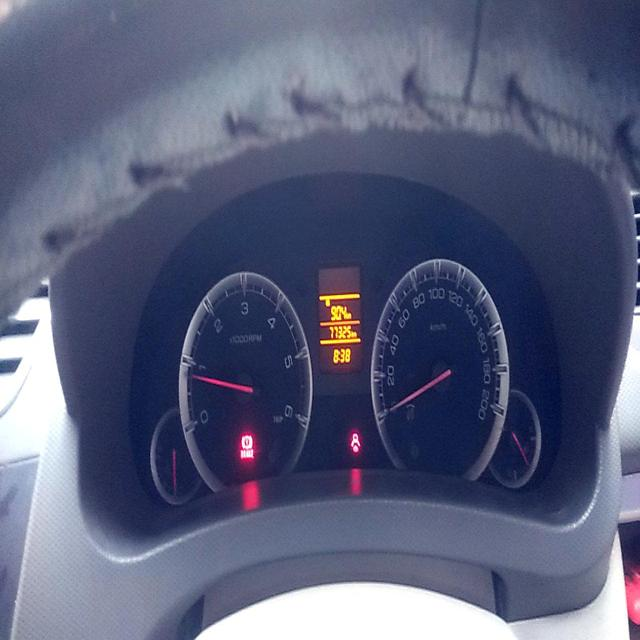odometer: (329, 323, 351, 344)
